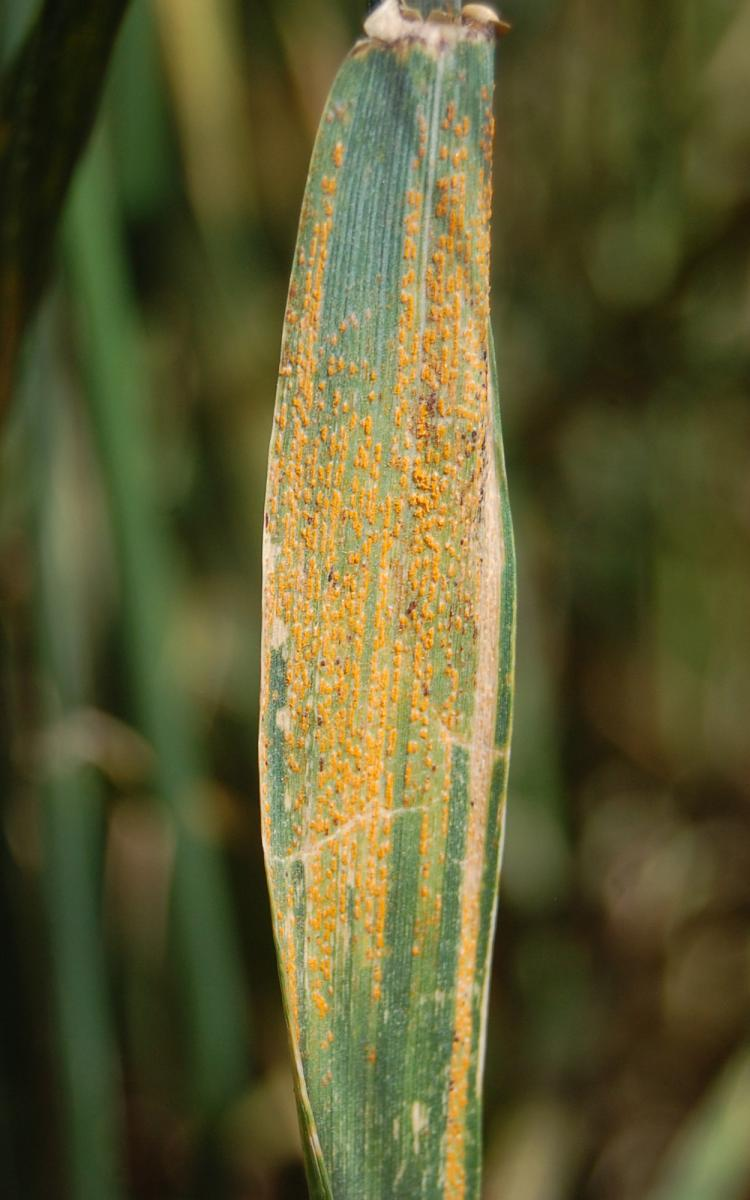Leaf: (259, 16, 518, 1197)
Yellow Rust: (394, 136, 481, 1189), (287, 254, 395, 1006)
